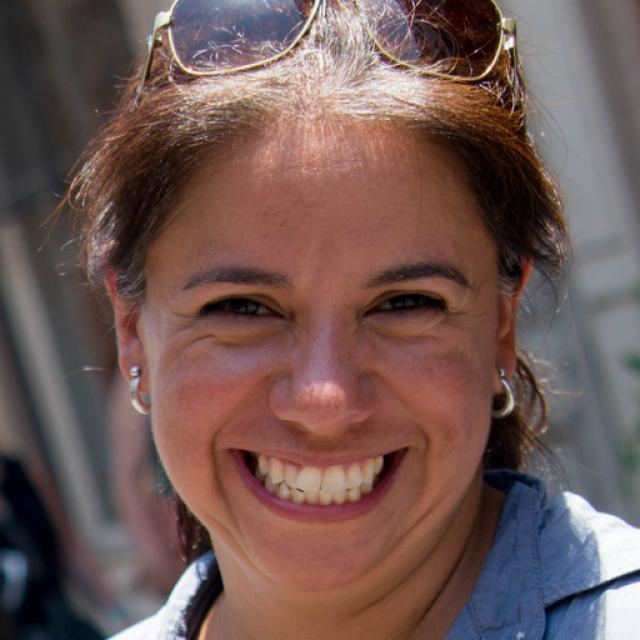0_rostro_limpio: (115, 77, 518, 588)
